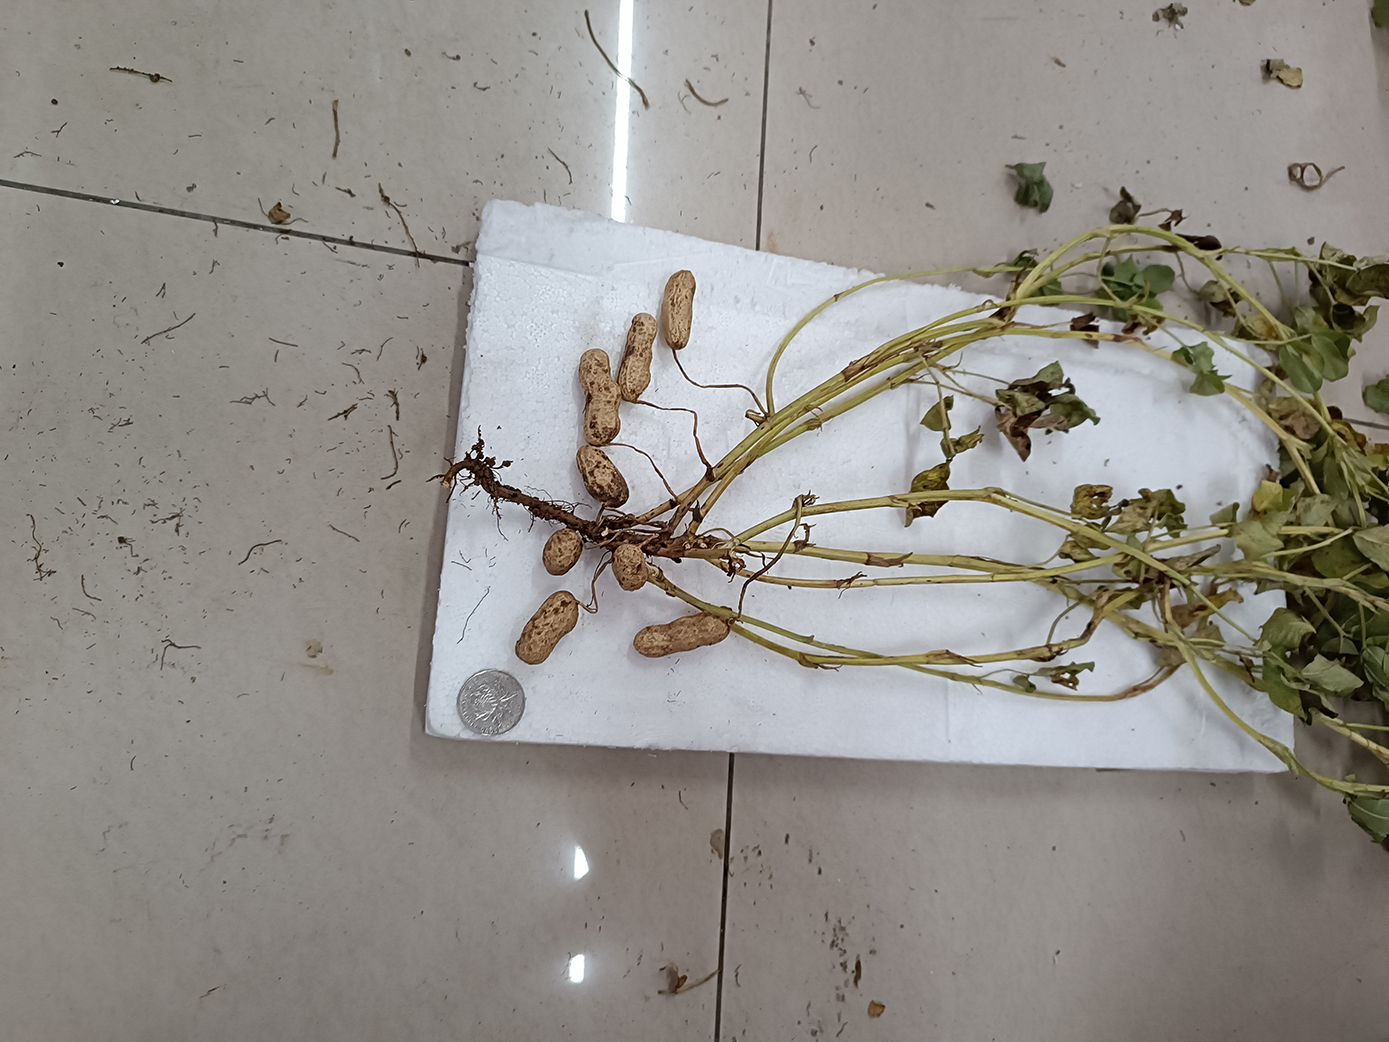h: (632, 612, 730, 656), (517, 592, 576, 664), (578, 350, 621, 445), (618, 314, 659, 402), (576, 445, 630, 509), (661, 271, 696, 354), (542, 529, 581, 575), (613, 546, 646, 593)
